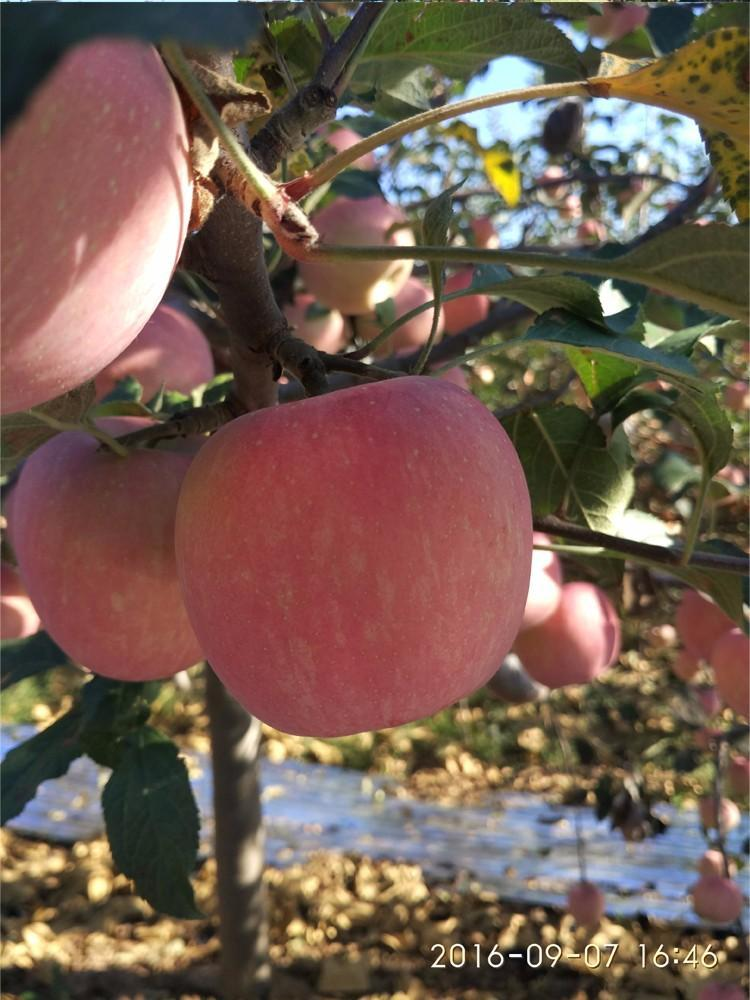apple: (177, 367, 547, 738), (15, 426, 243, 673)
